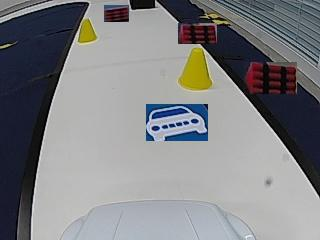block: (130, 0, 155, 10)
cone: (178, 48, 211, 90), (79, 20, 97, 44)
